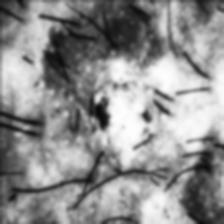Potentially Malignant Skin Tumors: (30, 0, 201, 203)
